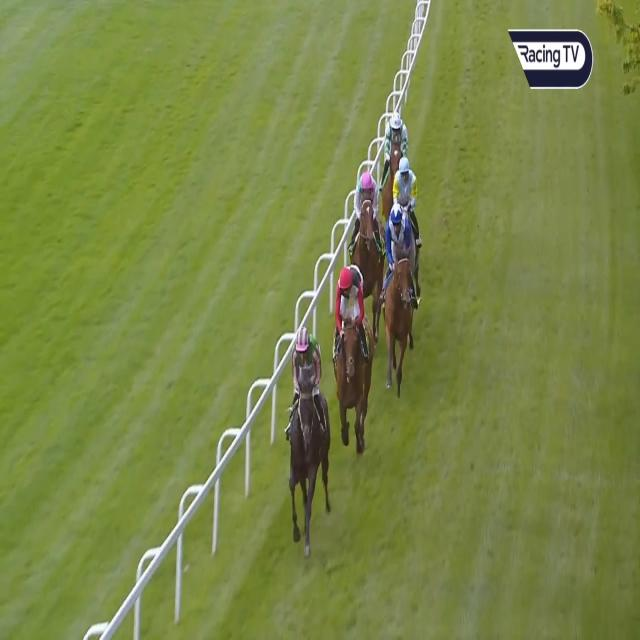horses-racing: (286, 332, 334, 534), (381, 198, 420, 400), (336, 269, 374, 450), (352, 176, 386, 317), (383, 114, 407, 203), (394, 156, 418, 206)
